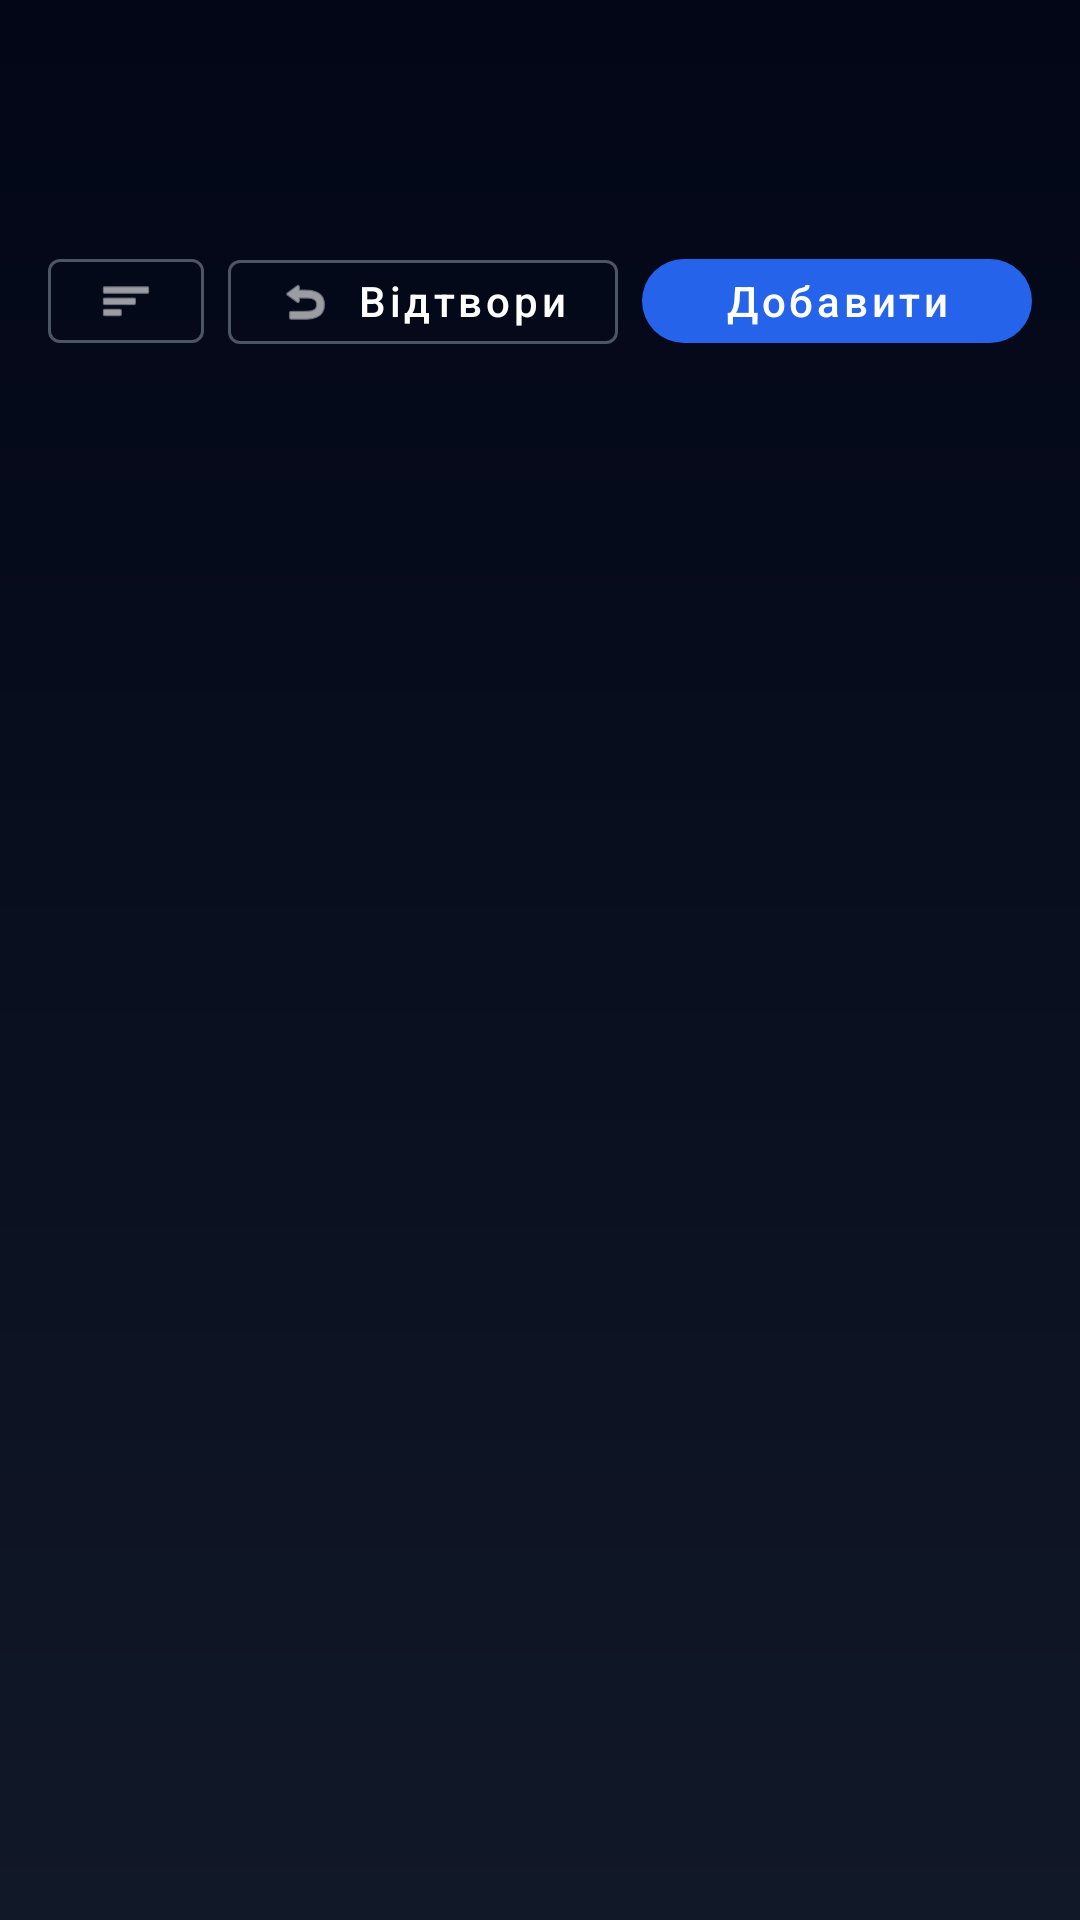

Screen size 1080px x 1920px. Icon name, then its center in pixels as (x=x, y=y):
sort by size: (x=126, y=301)
